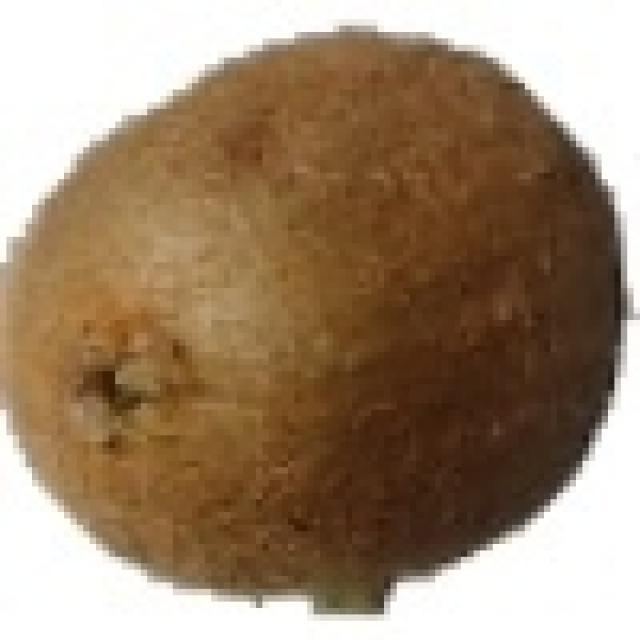kiwi: (0, 26, 608, 595)
